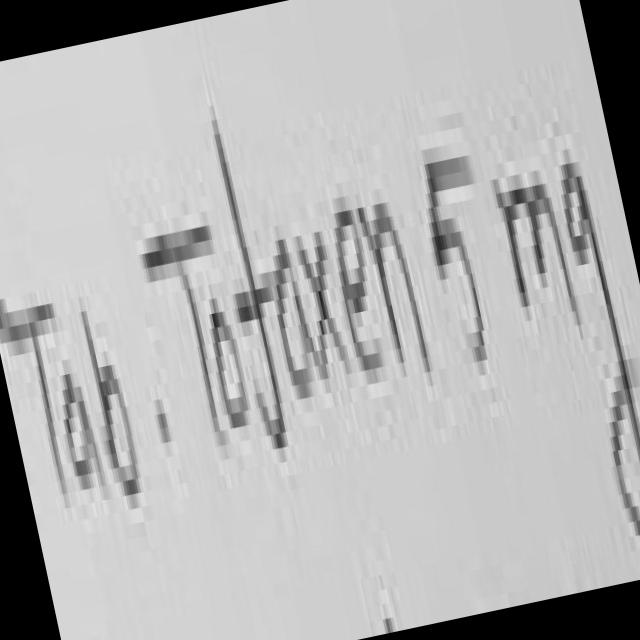5: (428, 155, 486, 353)
T: (143, 225, 222, 445), (0, 298, 66, 487)
a: (274, 238, 329, 398), (63, 375, 103, 489)
b: (82, 311, 139, 495)
e: (338, 209, 381, 370)
f: (215, 119, 287, 448)
g: (564, 162, 640, 531)
m: (499, 183, 581, 324)
n: (359, 202, 431, 364)
o: (212, 298, 247, 427)
x: (297, 231, 350, 379)
